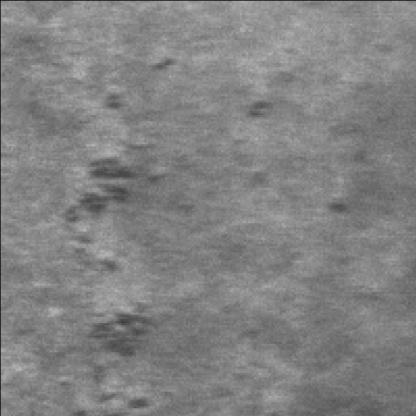rolled-in_scale: (64, 139, 170, 271), (69, 297, 156, 412)
